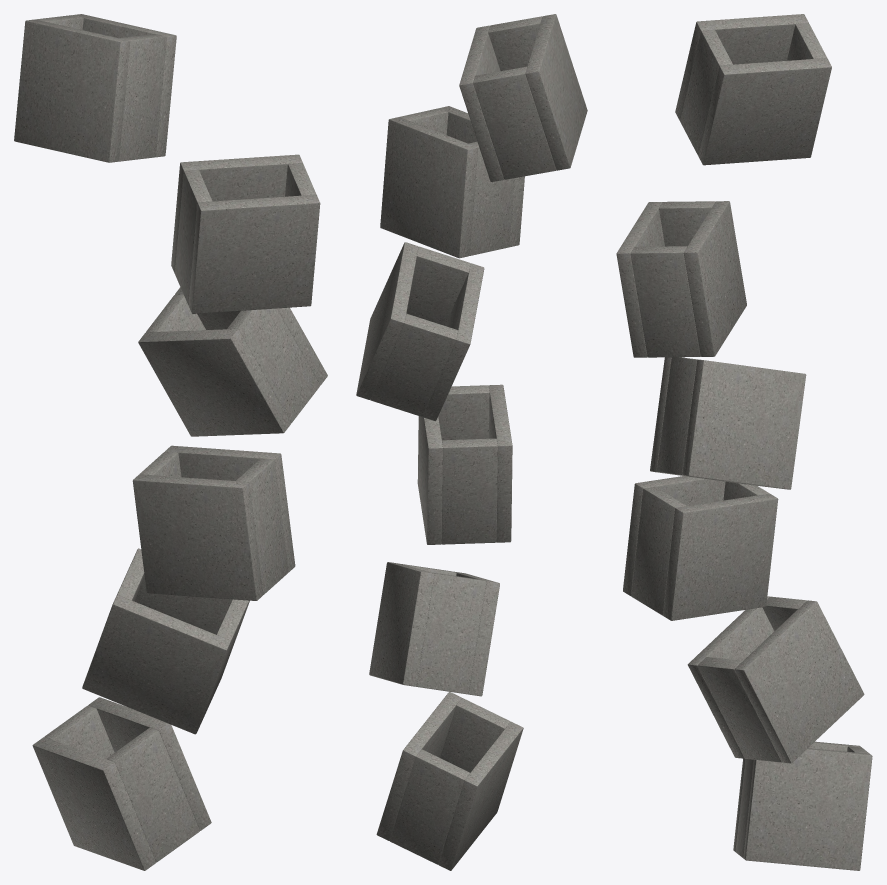
Rendered from ALV-BCO-002_anim.glb.
The picture shows the model from 3 angles, left to right: view 1: azimuth 30°, elevation 25°; view 2: azimuth 150°, elevation 25°; view 3: azimuth 270°, elevation 25°; orthographic projection. The views are drawn at different scales.
Parts seen in each view (by area): view 1: ALV-BCO-002_anim2, ALV-BCO-002_anim4, ALV-BCO-002_anim5, ALV-BCO-002_anim0, ALV-BCO-002_anim3, ALV-BCO-002_anim1; view 2: ALV-BCO-002_anim5, ALV-BCO-002_anim4, ALV-BCO-002_anim0, ALV-BCO-002_anim3, ALV-BCO-002_anim1, ALV-BCO-002_anim2; view 3: ALV-BCO-002_anim1, ALV-BCO-002_anim5, ALV-BCO-002_anim2, ALV-BCO-002_anim4, ALV-BCO-002_anim3, ALV-BCO-002_anim0.
Part boxes in pixels (x1=…): ALV-BCO-002_anim2: x1=132, y1=445, x2=295, y2=600; ALV-BCO-002_anim4: x1=171, y1=154, x2=320, y2=313; ALV-BCO-002_anim5: x1=14, y1=14, x2=176, y2=162; ALV-BCO-002_anim0: x1=32, y1=697, x2=211, y2=870; ALV-BCO-002_anim3: x1=138, y1=287, x2=327, y2=436; ALV-BCO-002_anim1: x1=82, y1=548, x2=249, y2=734; ALV-BCO-002_anim5: x1=459, y1=14, x2=587, y2=181; ALV-BCO-002_anim4: x1=380, y1=106, x2=524, y2=258; ALV-BCO-002_anim0: x1=376, y1=692, x2=523, y2=870; ALV-BCO-002_anim3: x1=356, y1=242, x2=484, y2=421; ALV-BCO-002_anim1: x1=369, y1=562, x2=499, y2=696; ALV-BCO-002_anim2: x1=417, y1=384, x2=512, y2=544; ALV-BCO-002_anim1: x1=687, y1=596, x2=864, y2=763; ALV-BCO-002_anim5: x1=675, y1=14, x2=831, y2=165; ALV-BCO-002_anim2: x1=623, y1=476, x2=778, y2=620; ALV-BCO-002_anim4: x1=616, y1=201, x2=746, y2=357; ALV-BCO-002_anim3: x1=650, y1=357, x2=806, y2=489; ALV-BCO-002_anim0: x1=733, y1=741, x2=872, y2=870.
Bounding box in the file's own units: 0.4691 × 1.48 × 0.4159.
1 material, 1 textured.
